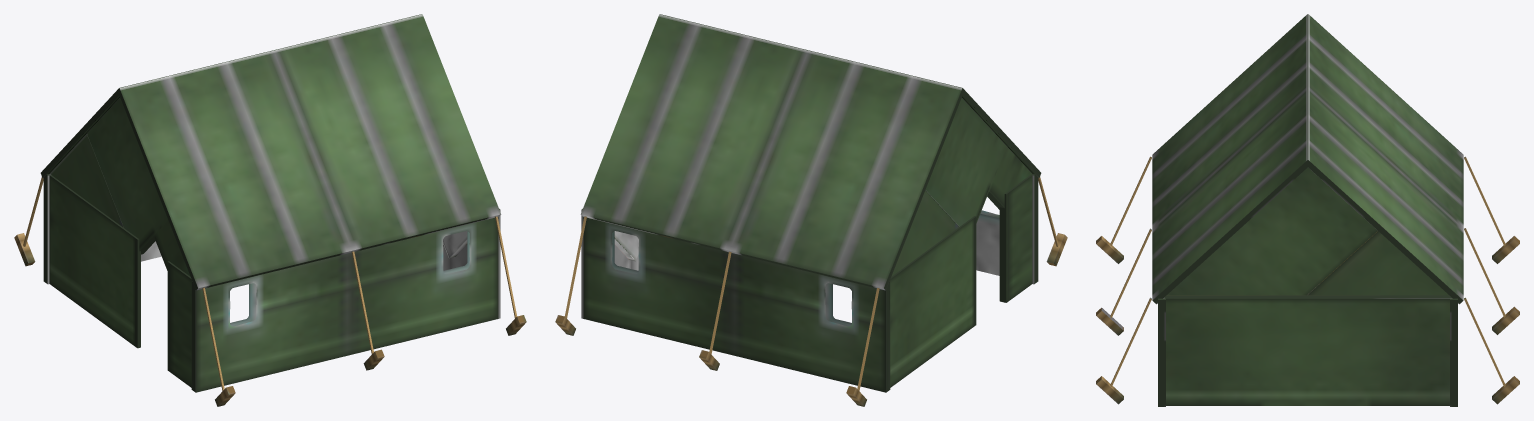
File: tentmodel1.obj
The picture shows the model from 3 angles, left to right: view 1: azimuth 30°, elevation 25°; view 2: azimuth 150°, elevation 25°; view 3: azimuth 270°, elevation 25°; orthographic projection.
Parts seen in each view (by area): view 1: cube; view 2: cube; view 3: cube.
Boxes of the visible parts, x1,y1,x2,y2 form: cube: (14,14,526,406); cube: (555,14,1067,406); cube: (1096,14,1519,406).
Bounding box in the file's own units: 2.75 × 2.15 × 3.35.
Materials: 1 (1 with a texture image).
